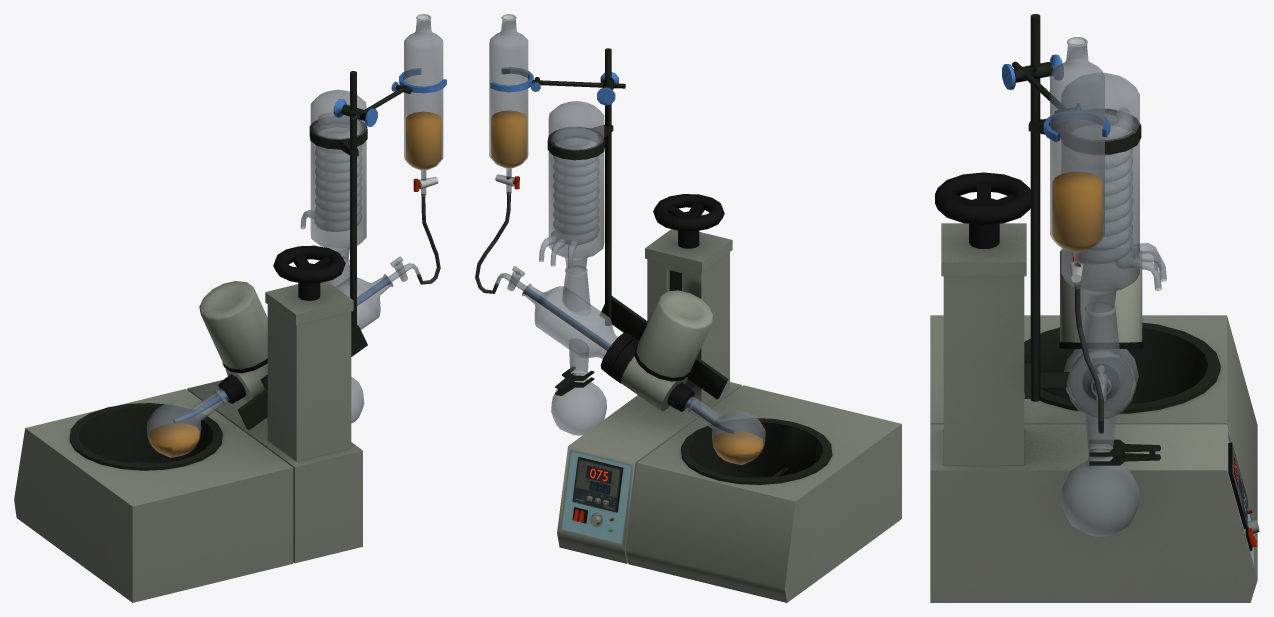
3 renders of one model, left to right at view 1: azimuth 30°, elevation 25°; view 2: azimuth 150°, elevation 25°; view 3: azimuth 270°, elevation 25°, orthographic. The views are drawn at different scales.
Parts seen in each view (by area): view 1: pr2, pr2_glass.002; view 2: pr2, pr2_glass.002; view 3: pr2, pr2_glass.002.
Part boxes in pixels (x1,y1,x2,y2): pr2: (14, 14, 446, 602); pr2_glass.002: (149, 111, 441, 457); pr2: (475, 14, 901, 602); pr2_glass.002: (491, 110, 763, 464); pr2: (930, 14, 1259, 602); pr2_glass.002: (1052, 171, 1135, 391).
Bounding box in the file's own units: 95.28 × 115 × 53.28.
